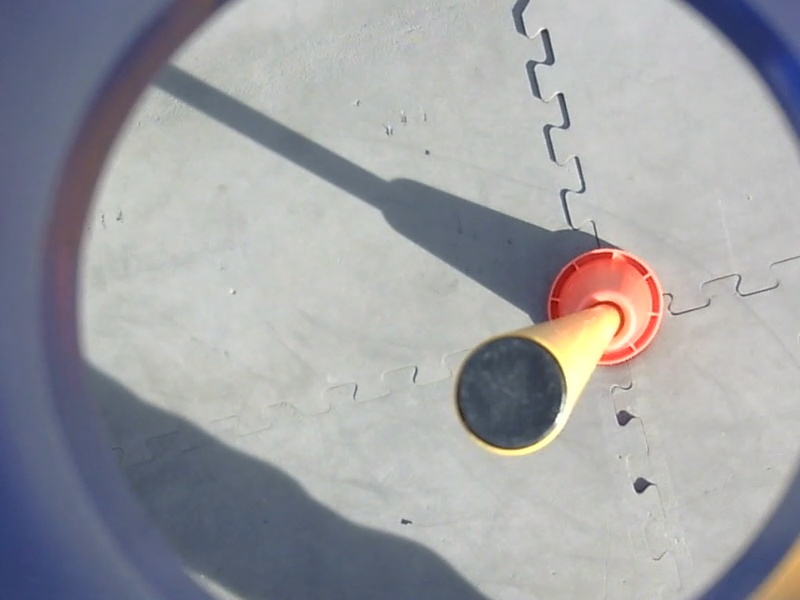tip: (446, 324, 579, 462)
